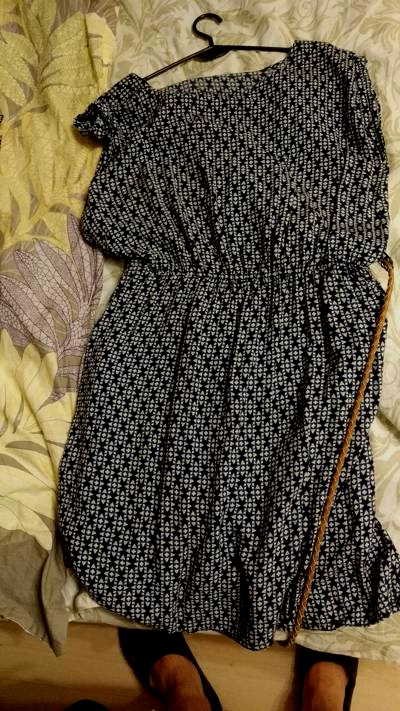Dress: (44, 31, 399, 655)
